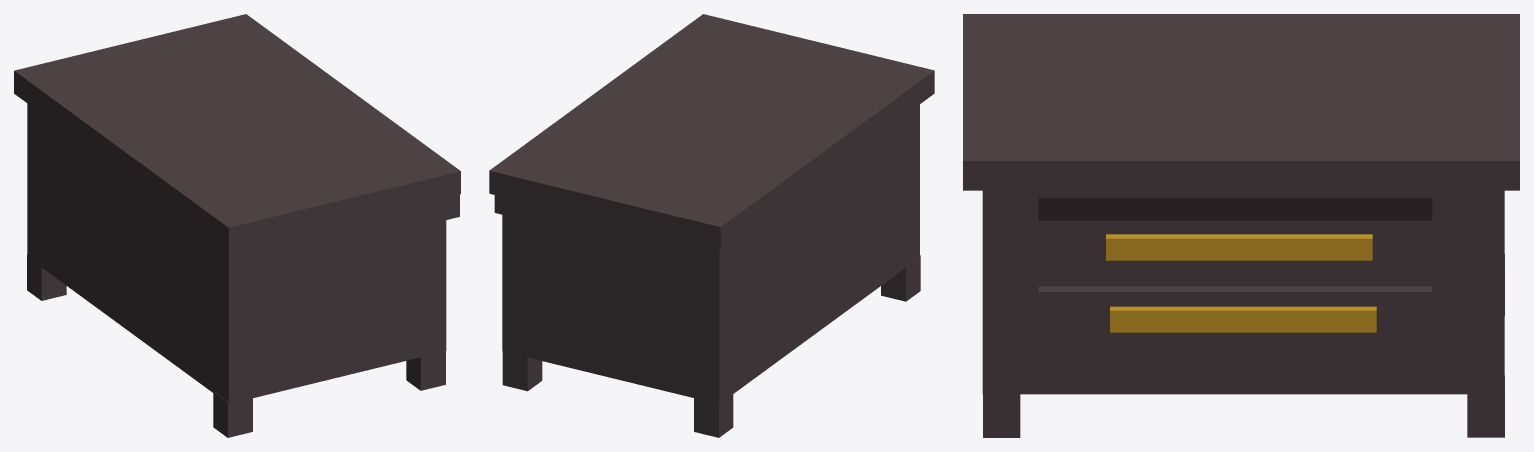
Rendered from Buro.obj.
The picture shows the model from 3 angles, left to right: view 1: azimuth 30°, elevation 25°; view 2: azimuth 150°, elevation 25°; view 3: azimuth 270°, elevation 25°; orthographic projection. The views are drawn at different scales.
Visible parts, largest first — view 1: pCube1, pCube5, pasted__pasted__pasted__pasted__pasted__pasted__pasted__pCube2 p, pasted__pasted__pasted__pasted__pasted__pasted__pCube2 pasted__p, pasted__pasted__pasted__pasted__pasted__pasted__pasted__pasted__; view 2: pCube1, pCube5, pasted__pasted__pasted__pasted__pasted__pasted__pasted__pasted__, pasted__pasted__pasted__pasted__pasted__pasted__pasted__pCube2 p; view 3: pCube5, pCube1, pCube3, pasted__pCube3 group3, pCube4, pasted__pCube4 group4, pasted__pasted__pasted__pasted__pasted__pasted__pasted__pasted__, pasted__pasted__pasted__pasted__pasted__pasted__pCube2 pasted__p.
Part boxes in pixels (<box>): pCube1: <box>27,103,446,404</box>; pCube5: <box>14,14,460,250</box>; pasted__pasted__pasted__pasted__pasted__pasted__pasted__pCube2 p: <box>213,391,252,437</box>; pasted__pasted__pasted__pasted__pasted__pasted__pCube2 pasted__p: <box>406,351,445,390</box>; pasted__pasted__pasted__pasted__pasted__pasted__pasted__pasted__: <box>27,255,66,300</box>; pCube1: <box>502,104,919,403</box>; pCube5: <box>489,14,934,249</box>; pasted__pasted__pasted__pasted__pasted__pasted__pasted__pasted__: <box>502,349,733,437</box>; pasted__pasted__pasted__pasted__pasted__pasted__pasted__pCube2 p: <box>881,255,920,301</box>; pCube5: <box>963,14,1519,190</box>; pCube1: <box>982,190,1504,394</box>; pCube3: <box>1038,198,1432,274</box>; pasted__pCube3 group3: <box>1038,286,1432,345</box>; pCube4: <box>1110,306,1376,332</box>; pasted__pCube4 group4: <box>1106,234,1372,260</box>; pasted__pasted__pasted__pasted__pasted__pasted__pasted__pasted__: <box>1467,254,1504,437</box>; pasted__pasted__pasted__pasted__pasted__pasted__pCube2 pasted__p: <box>983,394,1020,437</box>.
Size of the model in its own units: 2.28 by 1.77 by 3.17.
Materials: 12 (11 with a texture image).
